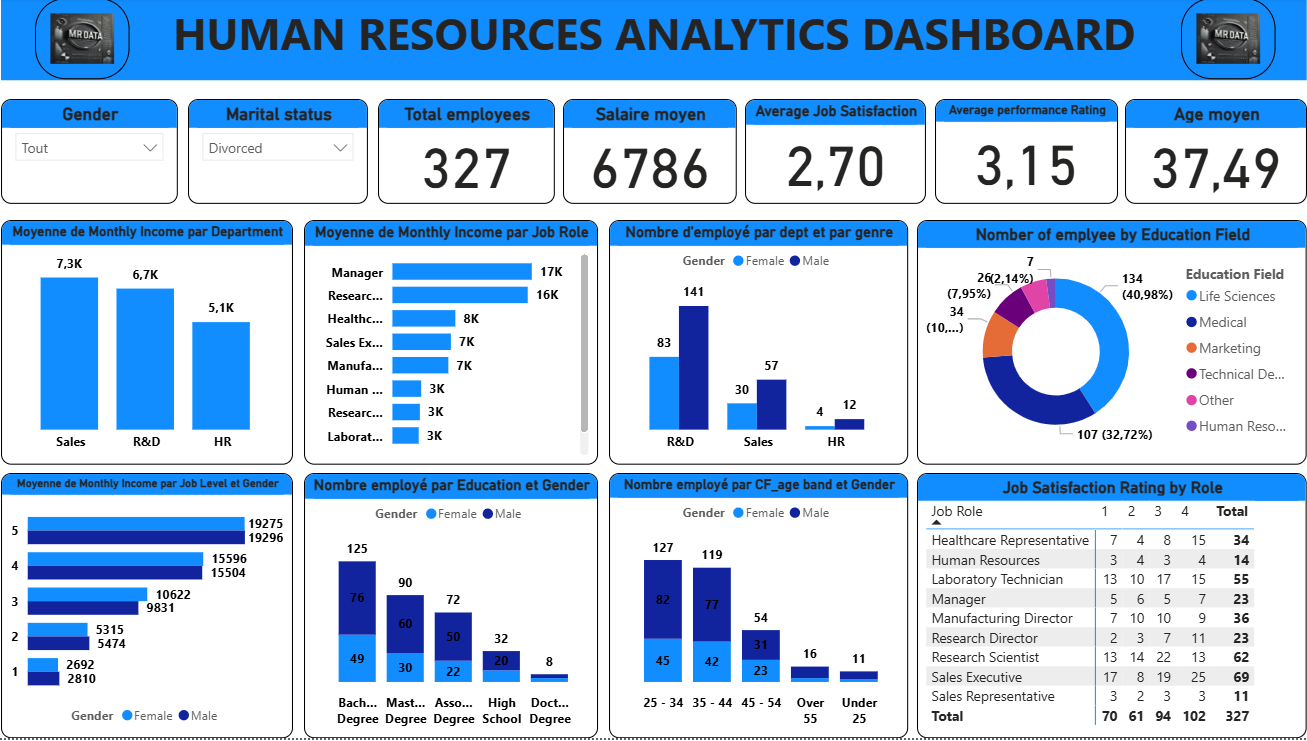

This screenshot's page, from the dashboard's own definition file:
{"tool":"powerbi","page":{"name":"Gestion des resources humaines","canvas":[1280,720],"ordinal":0},"visuals":[{"type":"textbox","box":[9.7,0,1270.3,79.8],"z":0},{"type":"slicer","title":"Gender","fields":{"Values":["HR data.Gender"]},"box":[10.2,98.6,171.8,101.7],"z":1000},{"type":"slicer","title":"Marital status","fields":{"Values":["HR data.Marital Status"]},"box":[191.1,98.6,174.9,101.7],"z":3000},{"type":"card","title":"Total employees","fields":{"Values":["HR data.Nombre employé"]},"box":[376.2,98.6,171.8,101.7],"z":4000},{"type":"card","title":"Salaire moyen","fields":{"Values":["Avg(HR data.Monthly Income)"]},"box":[556.1,98.6,168.8,101.7],"z":5000},{"type":"card","title":"Average Job Satisfaction","fields":{"Values":["Avg(HR data.Job Satisfaction)"]},"box":[733,98.6,175.9,101.7],"z":6000},{"type":"card","title":"Average performance Rating","fields":{"Values":["Avg(HR data.Performance Rating)"]},"box":[918.1,98.6,177.9,101.7],"z":7000},{"type":"card","title":"Age moyen","fields":{"Values":["Avg(HR data.Age)"]},"box":[1103.1,98.6,176.9,101.7],"z":8000},{"type":"columnChart","fields":{"Category":["HR data.Department"],"Y":["Avg(HR data.Monthly Income)"]},"box":[10.2,215.5,283.7,237.9],"z":9000},{"type":"barChart","fields":{"Y":["Avg(HR data.Monthly Income)"],"Category":["HR data.Job Role"]},"box":[304,215.5,285.7,237.9],"z":9001},{"type":"clusteredColumnChart","title":"Nombre d''employé par dept et par  genre","fields":{"Category":["HR data.Department"],"Y":["CountNonNull(HR data.emp no)"],"Series":["HR data.Gender"]},"box":[600.9,215.5,290.8,237.9],"z":9002},{"type":"donutChart","title":"Nomber of emplyee by Education Field","fields":{"Y":["CountNonNull(HR data.emp no)"],"Category":["HR data.Education Field"]},"box":[900.8,215.5,379.2,237.9],"z":9003},{"type":"clusteredBarChart","fields":{"Y":["Avg(HR data.Monthly Income)"],"Category":["HR data.Job Level"],"Series":["HR data.Gender"]},"box":[10.2,461.6,283.7,258.2],"z":9004},{"type":"columnChart","fields":{"Category":["HR data.Education"],"Y":["HR data.Nombre employé"],"Series":["HR data.Gender"]},"box":[304,461.6,285.7,258.2],"z":9005},{"type":"columnChart","fields":{"Y":["HR data.Nombre employé"],"Series":["HR data.Gender"],"Category":["HR data.CF_age band"]},"box":[600.9,461.6,290.8,258.2],"z":9006},{"type":"pivotTable","title":"Job Satisfaction Rating by Role","fields":{"Rows":["HR data.Job Role"],"Columns":["HR data.Job Satisfaction"],"Values":["HR data.Nombre employé"]},"box":[900.8,461.6,379.2,258.2],"z":9007},{"type":"image","box":[42.7,0,91.5,79.3],"z":9008},{"type":"image","box":[1157,0,91.5,79.3],"z":9009}]}

Visuals, with their boxes in screenshot pixels (x1, y1, x2, y2), scaled from the page's 1280x720 canvas onto the 1307x741 screenshot:
textbox: {"x1": 10, "y1": 0, "x2": 1306, "y2": 82}
"Gender" slicer: {"x1": 10, "y1": 101, "x2": 186, "y2": 206}
"Marital status" slicer: {"x1": 195, "y1": 101, "x2": 374, "y2": 206}
"Total employees" card: {"x1": 384, "y1": 101, "x2": 560, "y2": 206}
"Salaire moyen" card: {"x1": 568, "y1": 101, "x2": 740, "y2": 206}
"Average Job Satisfaction" card: {"x1": 748, "y1": 101, "x2": 928, "y2": 206}
"Average performance Rating" card: {"x1": 937, "y1": 101, "x2": 1119, "y2": 206}
"Age moyen" card: {"x1": 1126, "y1": 101, "x2": 1306, "y2": 206}
columnChart - HR data.Department x Avg(HR data.Monthly Income): {"x1": 10, "y1": 222, "x2": 300, "y2": 467}
barChart - Avg(HR data.Monthly Income) x HR data.Job Role: {"x1": 310, "y1": 222, "x2": 602, "y2": 467}
"Nombre d''employé par dept et par  genre" clusteredColumnChart: {"x1": 614, "y1": 222, "x2": 911, "y2": 467}
"Nomber of emplyee by Education Field" donutChart: {"x1": 920, "y1": 222, "x2": 1306, "y2": 467}
clusteredBarChart - Avg(HR data.Monthly Income) x HR data.Job Level: {"x1": 10, "y1": 475, "x2": 300, "y2": 740}
columnChart - HR data.Education x HR data.Nombre employé: {"x1": 310, "y1": 475, "x2": 602, "y2": 740}
columnChart - HR data.Nombre employé x HR data.Gender: {"x1": 614, "y1": 475, "x2": 911, "y2": 740}
"Job Satisfaction Rating by Role" pivotTable: {"x1": 920, "y1": 475, "x2": 1306, "y2": 740}
image: {"x1": 44, "y1": 0, "x2": 137, "y2": 82}
image: {"x1": 1181, "y1": 0, "x2": 1275, "y2": 82}
